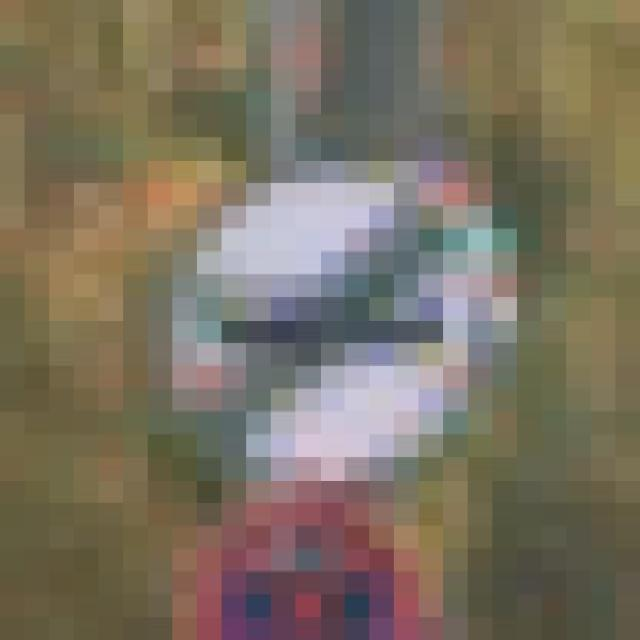No_Over_Taking: (99, 91, 542, 480)
